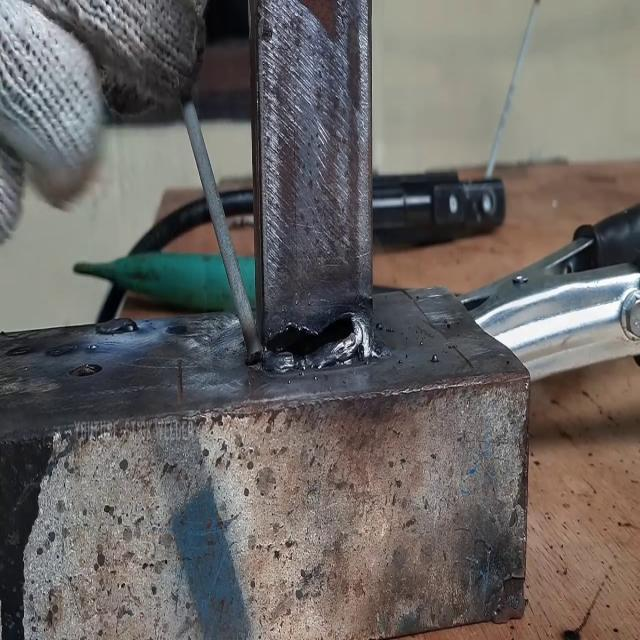Bad Welding: (259, 311, 376, 371)
